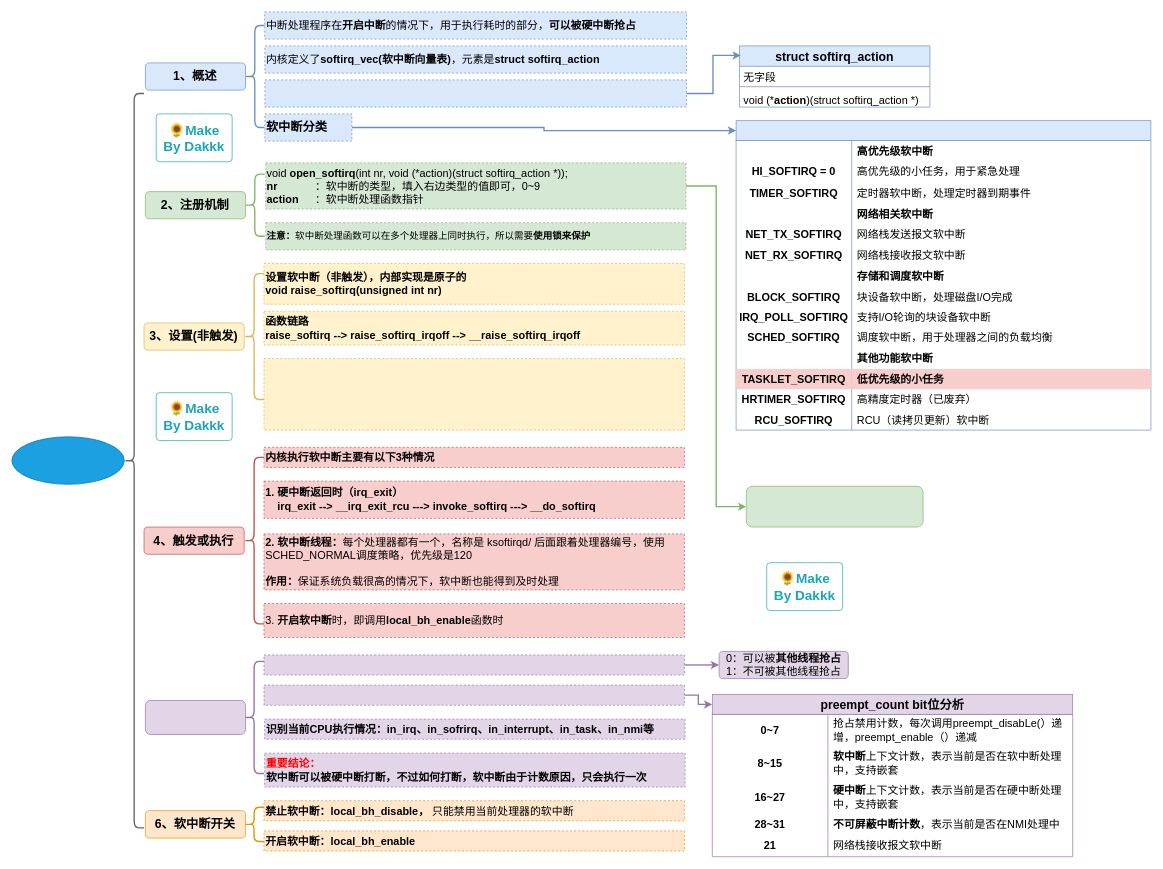
Image size: 1163x869. Some labels were removed from this diagram. Each missing label, with the centre of its shape:
"5、抢占计数器 （控制软中断）" belongs at [195,717].
"preempt_count：32位整数， bit位划分看右表" belongs at [473,694].
"softirq_action，只有一个action(函数指针字段)，指向具体的处理函数" belongs at [475,93].
"一旦注册，全局有效，统一执行 ！ 即一个类型只能绑定死函数了" belongs at [834,506].
"可以设置的阶段 1. 硬中断处理函数中（最典型） 2. 软中断处理函数中（设置其他软中断） 3. 进程上下文中 4. 定时器回调中" belongs at [473,394].
"概念： 每个 线程 的 thread_info结构 都有一个抢占计数器 int preempt_count" belongs at [473,664].
"软中断" belongs at [67,460].
"软中断类型" belongs at [943,130].
